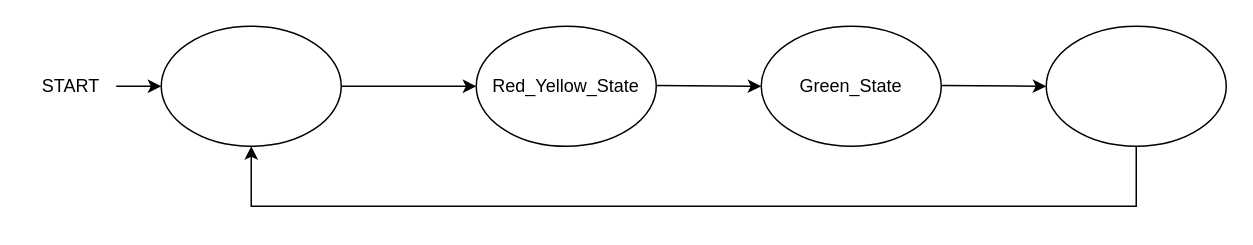
The diagram is 1253 pixels wide and 245 high, and some of its shapes have lost their labels. Each missing label, with the box of its shape:
Red_State: (160, 25, 341, 146)
Yellow_State: (1045, 25, 1226, 146)
